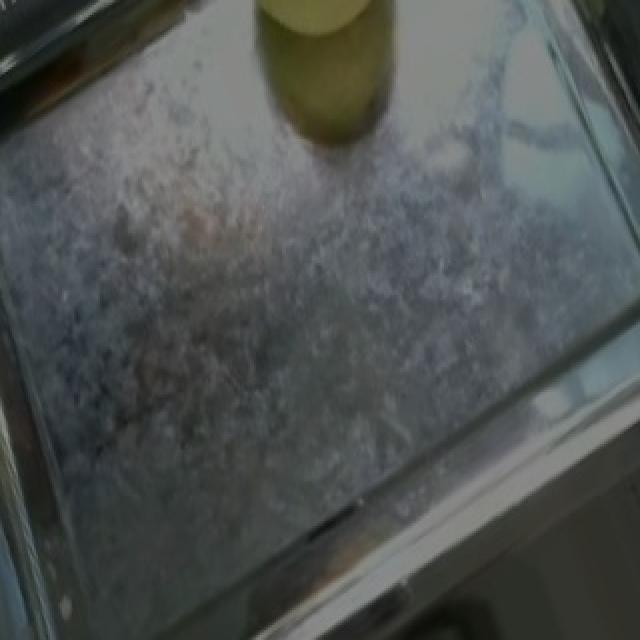Fruit: (212, 0, 438, 176)
